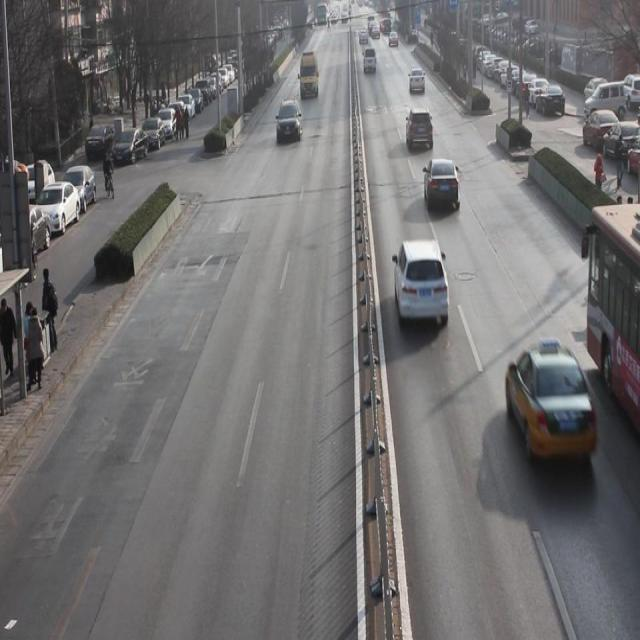car: (504, 341, 597, 466), (390, 240, 451, 336), (424, 158, 463, 218), (404, 109, 435, 153), (274, 99, 300, 143), (410, 66, 427, 98)
truck: (299, 50, 320, 102), (362, 47, 379, 80)
van: (589, 204, 640, 429)
